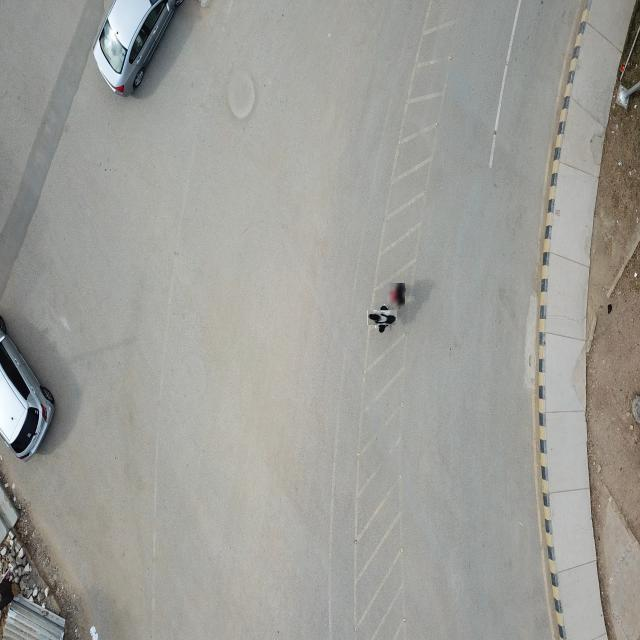Manusia: (371, 307, 395, 330), (387, 284, 406, 310)
